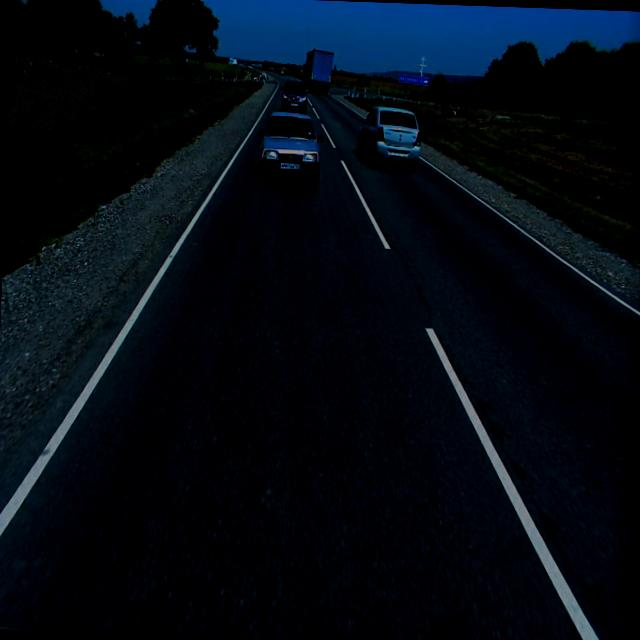road: (0, 71, 640, 640)
